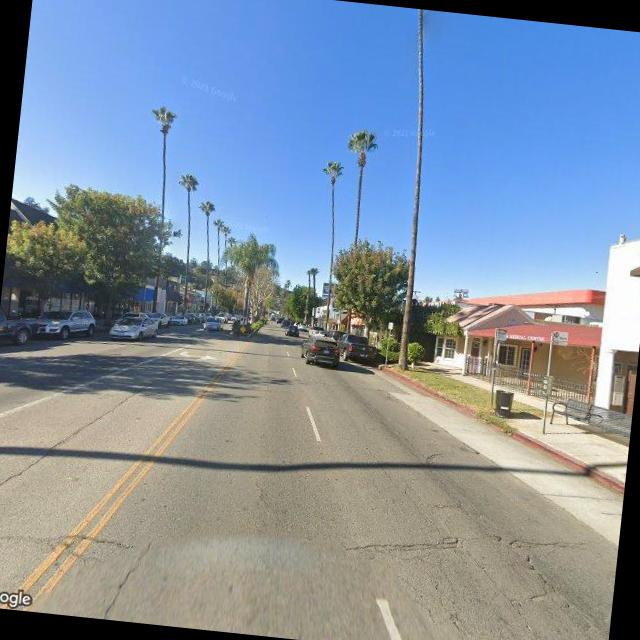crack: (336, 513, 610, 582), (0, 517, 134, 570)
